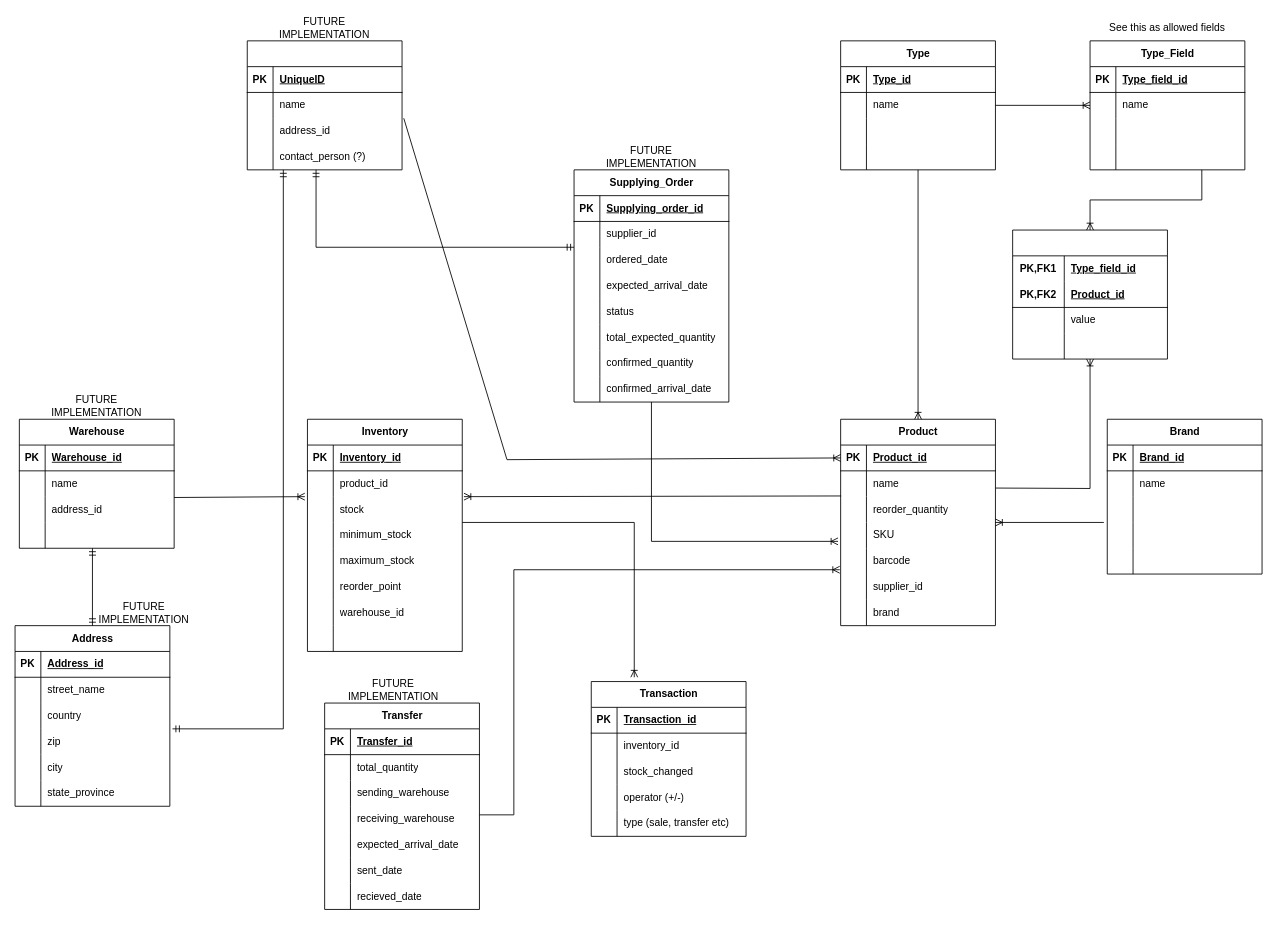
Image size: 1277x925. Some labels were removed from this diagram. Each missing label, with the box of its shape:
Product_Field: (1012, 229, 1167, 359)
Supplier: (246, 40, 402, 170)
